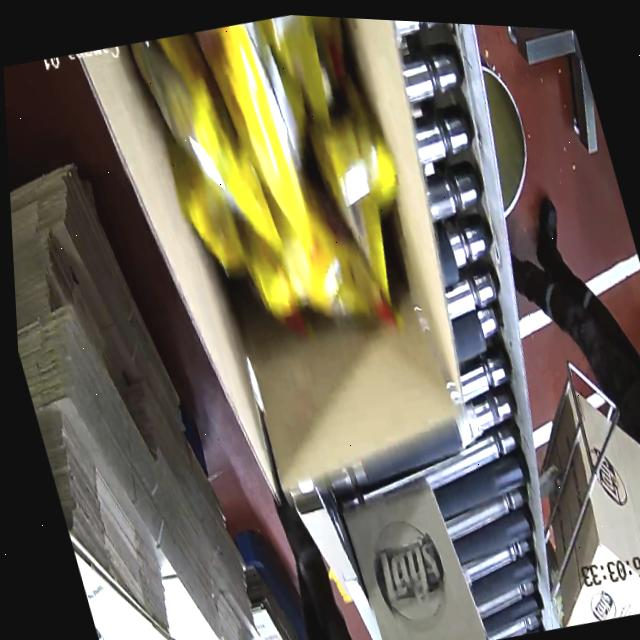SALTED: (112, 6, 443, 386)
